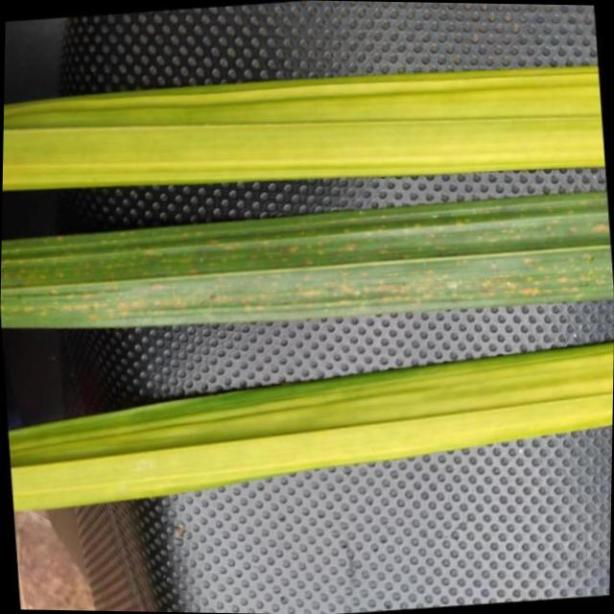nitrogen: (0, 345, 614, 508), (5, 187, 614, 329), (0, 62, 614, 194)
